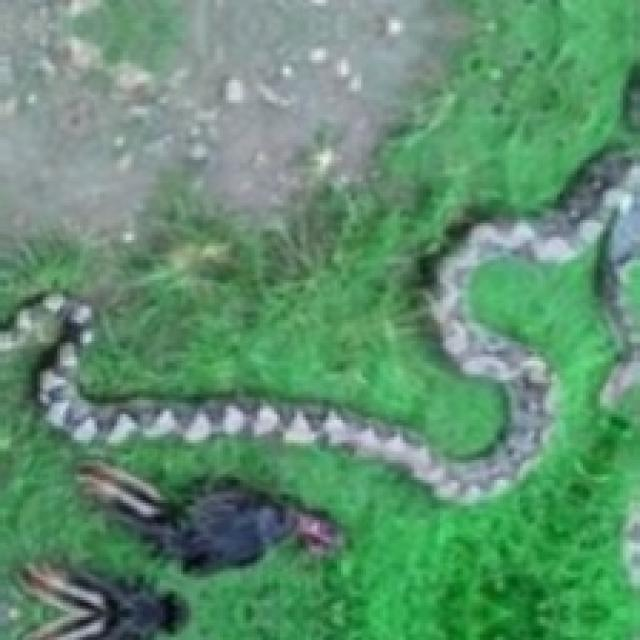reticulated python: (0, 154, 637, 500)
